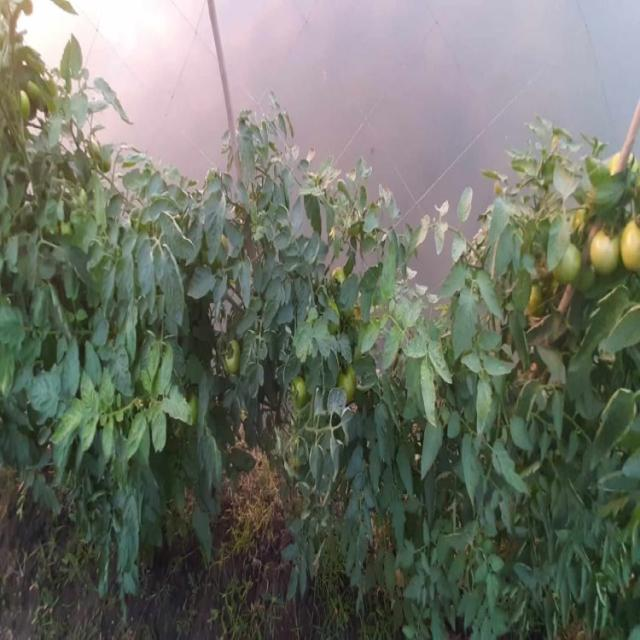tomato: (545, 231, 597, 283), (589, 217, 625, 281), (512, 271, 545, 311), (618, 219, 640, 270), (217, 343, 241, 379), (335, 365, 361, 398), (330, 262, 351, 300), (19, 86, 39, 123), (291, 379, 314, 409)
